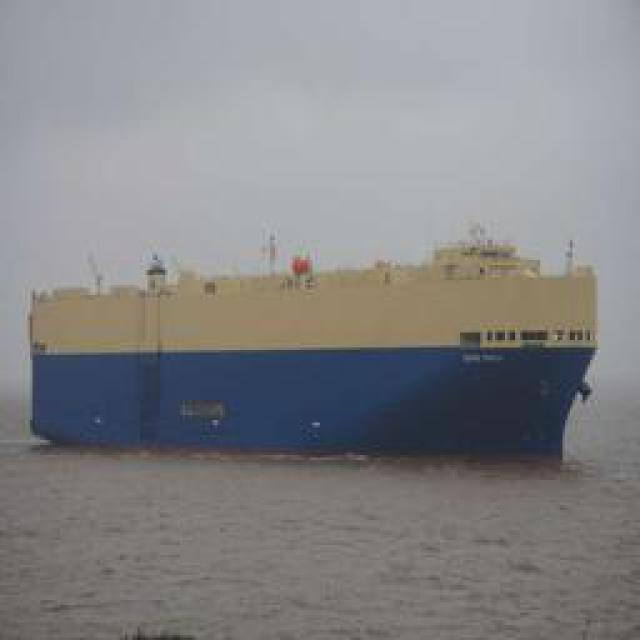Ship: (26, 221, 606, 459)
